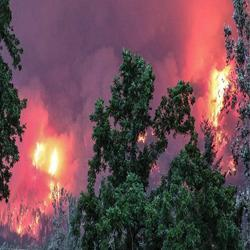fire: (32, 138, 63, 173), (212, 67, 228, 120)
